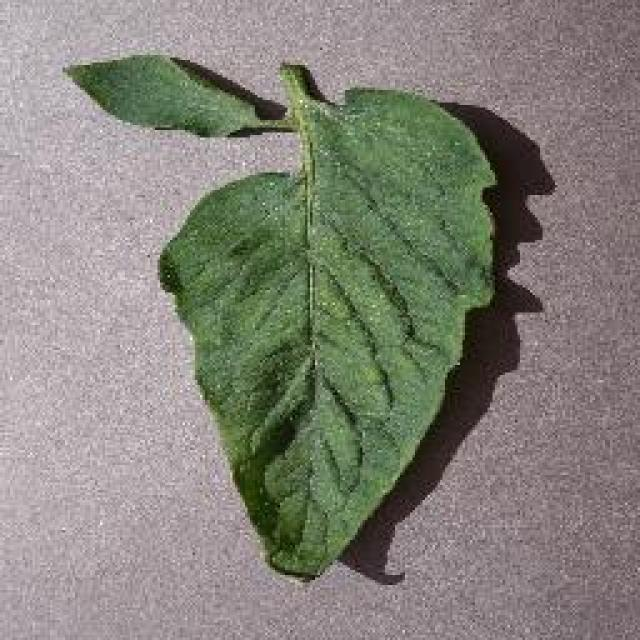Tomato___Spider_mites Two-spotted_spider_mite: (68, 55, 492, 575)
